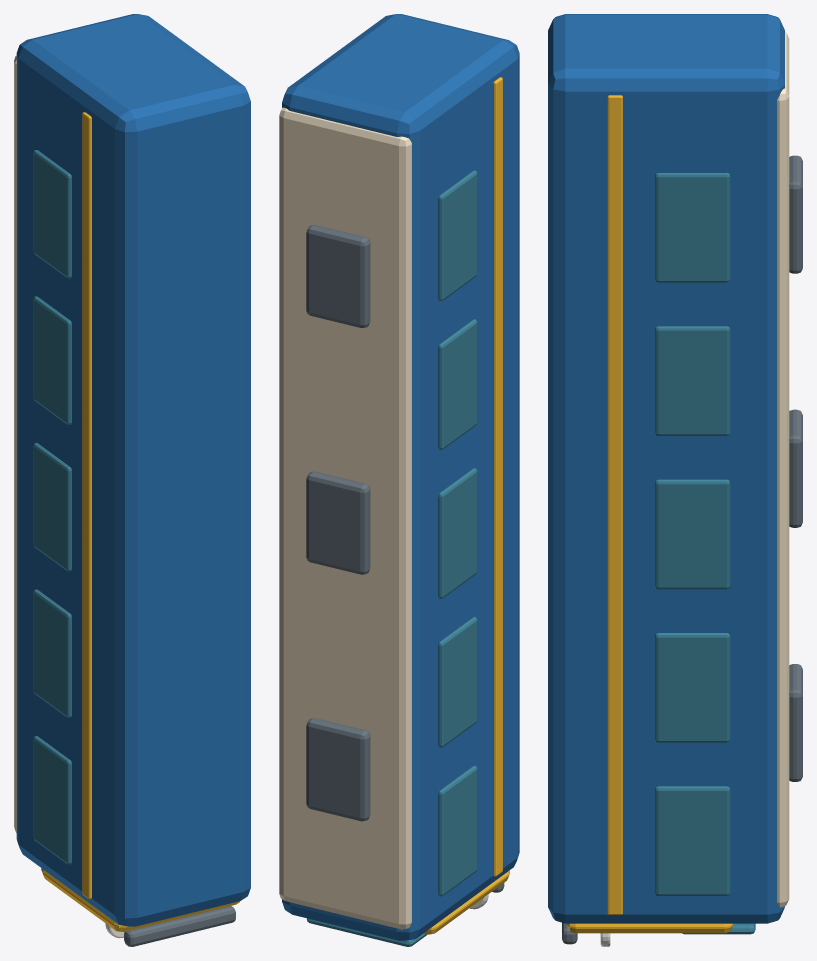
File: CR_CampusTrain.fbx
The picture shows the model from 3 angles, left to right: view 1: azimuth 30°, elevation 25°; view 2: azimuth 150°, elevation 25°; view 3: azimuth 270°, elevation 25°; orthographic projection. The views are drawn at different scales.
Visible parts, largest first — view 1: Cobalt_Body, Gold_Stripe_-1, Glass_Side_-1_0, Glass_Side_-1_4, Glass_Side_-1_2, Glass_Side_-1_1, Glass_Side_-1_3, Cream_Roof, Metal_Bumper, Gold_Nose; view 2: Cream_Roof, Cobalt_Body, Gold_Stripe_-1, Metal_RoofVent, Metal_RoofVent.001, Metal_RoofVent.002, Glass_Side_-1_0, Glass_Side_-1_4, Glass_Side_-1_1, Glass_Side_-1_2, Glass_Side_-1_3, Gold_Nose (+1 smaller); view 3: Cobalt_Body, Gold_Stripe_1, Cream_Roof, Glass_Side_1_2, Glass_Side_1_1, Glass_Side_1_3, Glass_Side_1_0, Glass_Side_1_4, Gold_Nose, Metal_RoofVent.002, Metal_RoofVent.001, Metal_RoofVent.
Part boxes in pixels (left/top/right/bottom): Cobalt_Body: left=16, top=14, right=250, bottom=926; Gold_Stripe_-1: left=82, top=112, right=91, bottom=899; Glass_Side_-1_0: left=33, top=736, right=71, bottom=864; Glass_Side_-1_4: left=33, top=150, right=71, bottom=278; Glass_Side_-1_2: left=33, top=443, right=71, bottom=571; Glass_Side_-1_1: left=33, top=589, right=71, bottom=717; Glass_Side_-1_3: left=33, top=296, right=71, bottom=424; Cream_Roof: left=14, top=55, right=16, bottom=832; Metal_Bumper: left=124, top=906, right=235, bottom=946; Gold_Nose: left=42, top=869, right=239, bottom=931; Cream_Roof: left=279, top=107, right=411, bottom=929; Cobalt_Body: left=282, top=14, right=519, bottom=940; Gold_Stripe_-1: left=493, top=77, right=502, bottom=876; Metal_RoofVent: left=306, top=718, right=370, bottom=821; Metal_RoofVent.001: left=306, top=471, right=370, bottom=574; Metal_RoofVent.002: left=306, top=225, right=370, bottom=327; Glass_Side_-1_0: left=438, top=765, right=477, bottom=896; Glass_Side_-1_4: left=438, top=170, right=477, bottom=301; Glass_Side_-1_1: left=438, top=617, right=477, bottom=747; Glass_Side_-1_2: left=438, top=468, right=477, bottom=598; Glass_Side_-1_3: left=438, top=319, right=477, bottom=449; Gold_Nose: left=423, top=870, right=509, bottom=934; Cobalt_Body: left=548, top=14, right=784, bottom=923; Gold_Stripe_1: left=607, top=95, right=622, bottom=914; Cream_Roof: left=777, top=31, right=789, bottom=907; Glass_Side_1_2: left=655, top=479, right=730, bottom=589; Glass_Side_1_1: left=655, top=633, right=730, bottom=742; Glass_Side_1_3: left=655, top=326, right=730, bottom=435; Glass_Side_1_0: left=655, top=786, right=730, bottom=895; Glass_Side_1_4: left=655, top=173, right=730, bottom=282; Gold_Nose: left=567, top=923, right=733, bottom=933; Metal_RoofVent.002: left=789, top=155, right=802, bottom=273; Metal_RoofVent.001: left=789, top=409, right=802, bottom=527; Metal_RoofVent: left=789, top=664, right=802, bottom=781.
Bounding box in the file's own units: 1.82 × 10.07 × 2.64.
